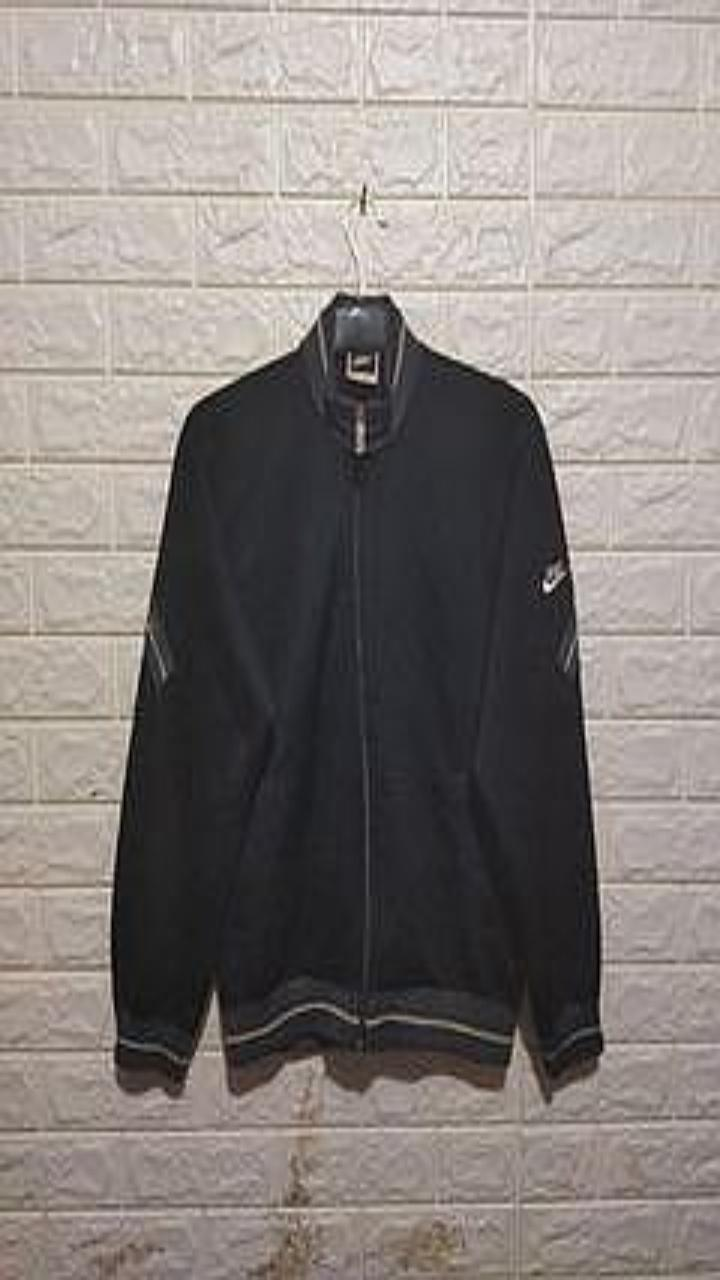Sports_Jacket: (111, 291, 603, 1080)
